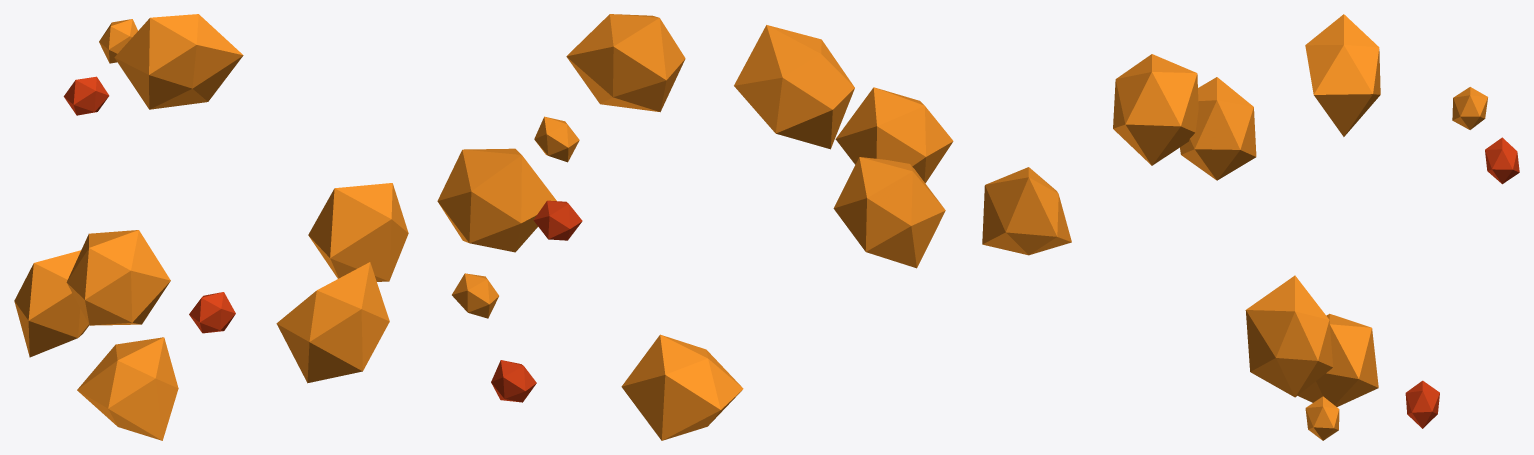
File: frame_7.glb
3 renders of one model, left to right at view 1: azimuth 30°, elevation 25°; view 2: azimuth 150°, elevation 25°; view 3: azimuth 270°, elevation 25°, orthographic. The views are drawn at different scales.
Visible parts, largest first — view 1: effect_explosion_small_frame_7; view 2: effect_explosion_small_frame_7; view 3: effect_explosion_small_frame_7.
Boxes of the visible parts, x1=… form: effect_explosion_small_frame_7: x1=14, y1=14, x2=408, y2=440; effect_explosion_small_frame_7: x1=437, y1=14, x2=953, y2=440; effect_explosion_small_frame_7: x1=982, y1=14, x2=1519, y2=440.
Bounding box in the file's own units: 8.86 × 7.97 × 9.87.
